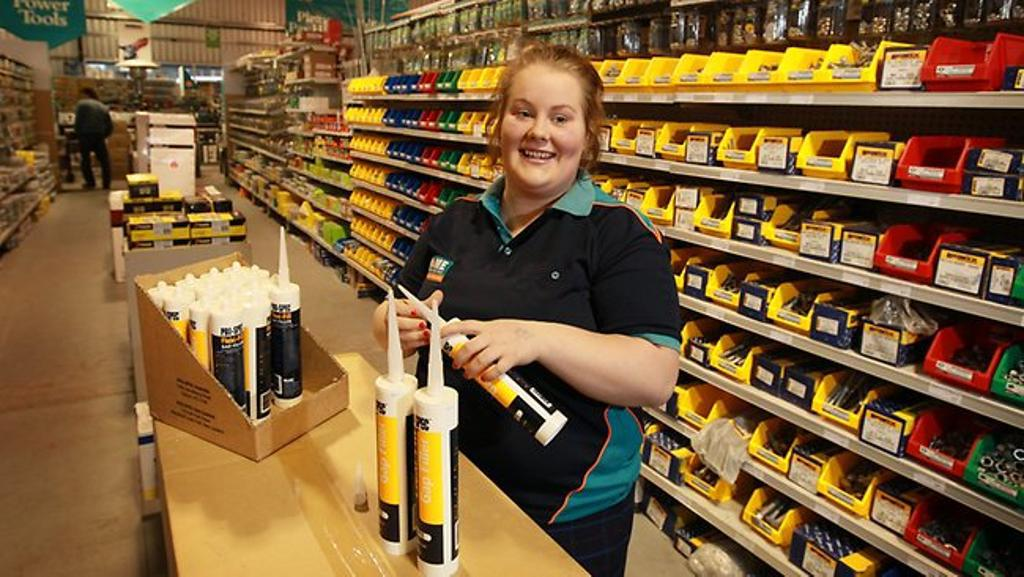face: (493, 63, 591, 187)
